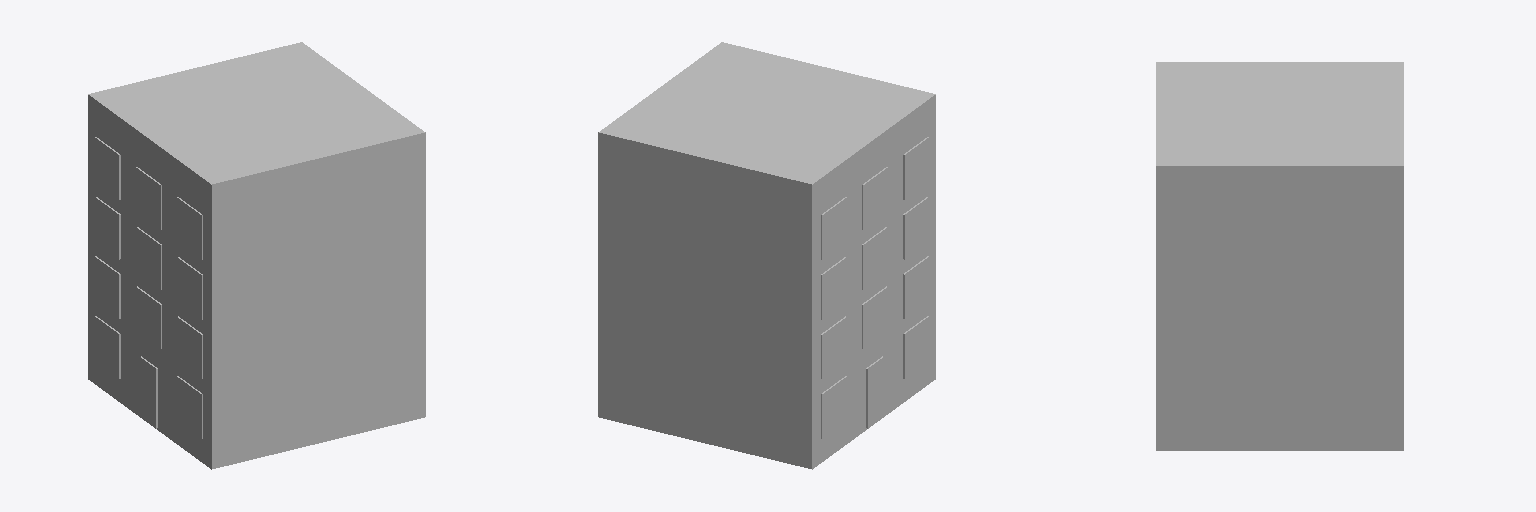
File: Building2.obj
3 views of the same model, side by side, from view 1: azimuth 30°, elevation 25°; view 2: azimuth 150°, elevation 25°; view 3: azimuth 270°, elevation 25° (orthographic).
Parts seen in each view (by area): view 1: Mesh1 Mesh1_Mesh2_cube01_1_1_skpBB1_Model_Model Model, Mesh10 Mesh10_Mesh11_cube10_1_1_skpBB1_Model_Model Model, Mesh11 Mesh11_Mesh12_cube11_1_1_skpBB1_Model_Model Model, Mesh2 Mesh2_Mesh3_cube02_1_1_skpBB1_Model_Model Model, Mesh3 Mesh3_Mesh4_cube03_1_1_skpBB1_Model_Model Model, Mesh4 Mesh4_Mesh5_cube04_1_1_skpBB1_Model_Model Model, Mesh5 Mesh5_Mesh6_cube05_1_1_skpBB1_Model_Model Model, Mesh6 Mesh6_Mesh7_cube06_1_1_skpBB1_Model_Model Model, Mesh7 Mesh7_Mesh8_cube07_1_1_skpBB1_Model_Model Model, Mesh8 Mesh8_Mesh9_cube08_1_1_skpBB1_Model_Model Model, Mesh9 Mesh9_Mesh10_cube09_1_1_skpBB1_Model_Model Model, Mesh12 Mesh12_Mesh13_cube12_1_1_skpBB1_Model_Model Model (+1 smaller); view 2: Mesh1 Mesh1_Mesh2_cube01_1_1_skpBB1_Model_Model Model, Mesh10 Mesh10_Mesh11_cube10_1_1_skpBB1_Model_Model Model, Mesh11 Mesh11_Mesh12_cube11_1_1_skpBB1_Model_Model Model, Mesh2 Mesh2_Mesh3_cube02_1_1_skpBB1_Model_Model Model, Mesh3 Mesh3_Mesh4_cube03_1_1_skpBB1_Model_Model Model, Mesh4 Mesh4_Mesh5_cube04_1_1_skpBB1_Model_Model Model, Mesh5 Mesh5_Mesh6_cube05_1_1_skpBB1_Model_Model Model, Mesh6 Mesh6_Mesh7_cube06_1_1_skpBB1_Model_Model Model, Mesh7 Mesh7_Mesh8_cube07_1_1_skpBB1_Model_Model Model, Mesh8 Mesh8_Mesh9_cube08_1_1_skpBB1_Model_Model Model, Mesh9 Mesh9_Mesh10_cube09_1_1_skpBB1_Model_Model Model, Mesh12 Mesh12_Mesh13_cube12_1_1_skpBB1_Model_Model Model (+1 smaller); view 3: Mesh1 Mesh1_Mesh2_cube01_1_1_skpBB1_Model_Model Model.
Boxes of the visible parts, x1=… form: Mesh1 Mesh1_Mesh2_cube01_1_1_skpBB1_Model_Model Model: x1=88, y1=42, x2=425, y2=469; Mesh10 Mesh10_Mesh11_cube10_1_1_skpBB1_Model_Model Model: x1=177, y1=316, x2=202, y2=378; Mesh11 Mesh11_Mesh12_cube11_1_1_skpBB1_Model_Model Model: x1=95, y1=256, x2=120, y2=318; Mesh2 Mesh2_Mesh3_cube02_1_1_skpBB1_Model_Model Model: x1=136, y1=167, x2=161, y2=229; Mesh3 Mesh3_Mesh4_cube03_1_1_skpBB1_Model_Model Model: x1=177, y1=197, x2=202, y2=259; Mesh4 Mesh4_Mesh5_cube04_1_1_skpBB1_Model_Model Model: x1=177, y1=376, x2=202, y2=438; Mesh5 Mesh5_Mesh6_cube05_1_1_skpBB1_Model_Model Model: x1=95, y1=137, x2=120, y2=199; Mesh6 Mesh6_Mesh7_cube06_1_1_skpBB1_Model_Model Model: x1=95, y1=197, x2=120, y2=259; Mesh7 Mesh7_Mesh8_cube07_1_1_skpBB1_Model_Model Model: x1=177, y1=257, x2=202, y2=319; Mesh8 Mesh8_Mesh9_cube08_1_1_skpBB1_Model_Model Model: x1=136, y1=227, x2=161, y2=289; Mesh9 Mesh9_Mesh10_cube09_1_1_skpBB1_Model_Model Model: x1=136, y1=286, x2=161, y2=348; Mesh12 Mesh12_Mesh13_cube12_1_1_skpBB1_Model_Model Model: x1=95, y1=316, x2=120, y2=378; Mesh1 Mesh1_Mesh2_cube01_1_1_skpBB1_Model_Model Model: x1=598, y1=42, x2=935, y2=469; Mesh10 Mesh10_Mesh11_cube10_1_1_skpBB1_Model_Model Model: x1=903, y1=256, x2=928, y2=318; Mesh11 Mesh11_Mesh12_cube11_1_1_skpBB1_Model_Model Model: x1=821, y1=316, x2=846, y2=378; Mesh2 Mesh2_Mesh3_cube02_1_1_skpBB1_Model_Model Model: x1=862, y1=167, x2=887, y2=229; Mesh3 Mesh3_Mesh4_cube03_1_1_skpBB1_Model_Model Model: x1=903, y1=137, x2=928, y2=199; Mesh4 Mesh4_Mesh5_cube04_1_1_skpBB1_Model_Model Model: x1=903, y1=316, x2=928, y2=378; Mesh5 Mesh5_Mesh6_cube05_1_1_skpBB1_Model_Model Model: x1=821, y1=197, x2=846, y2=259; Mesh6 Mesh6_Mesh7_cube06_1_1_skpBB1_Model_Model Model: x1=821, y1=257, x2=846, y2=319; Mesh7 Mesh7_Mesh8_cube07_1_1_skpBB1_Model_Model Model: x1=903, y1=197, x2=928, y2=259; Mesh8 Mesh8_Mesh9_cube08_1_1_skpBB1_Model_Model Model: x1=862, y1=227, x2=887, y2=289; Mesh9 Mesh9_Mesh10_cube09_1_1_skpBB1_Model_Model Model: x1=862, y1=286, x2=887, y2=348; Mesh12 Mesh12_Mesh13_cube12_1_1_skpBB1_Model_Model Model: x1=821, y1=376, x2=846, y2=438; Mesh1 Mesh1_Mesh2_cube01_1_1_skpBB1_Model_Model Model: x1=1156, y1=62, x2=1403, y2=450.
Bounding box in the file's own units: 12.12 × 15.32 × 12.04.